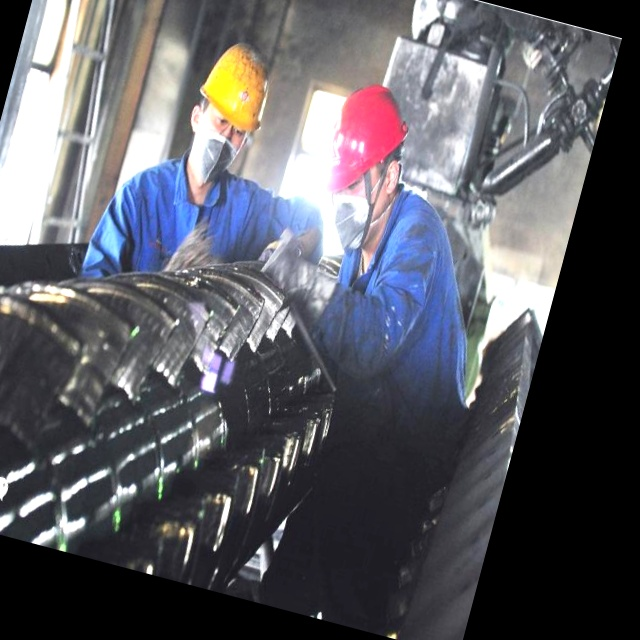Con_Casco: (303, 75, 420, 252), (176, 36, 278, 190)
